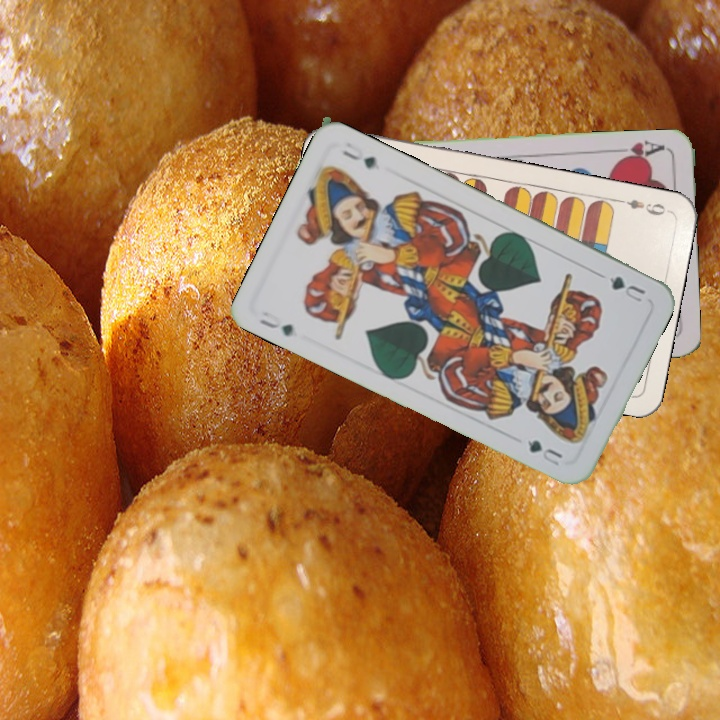E9: (613, 195, 672, 219)
GU: (605, 272, 648, 306), (254, 307, 296, 339)
HA: (609, 137, 669, 165)
